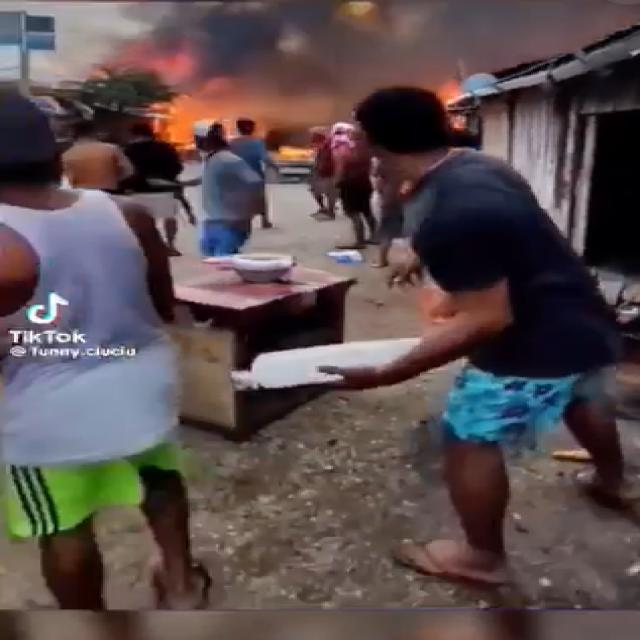Fire: (131, 66, 280, 151), (418, 74, 484, 128)
Smoke: (138, 0, 628, 118)
